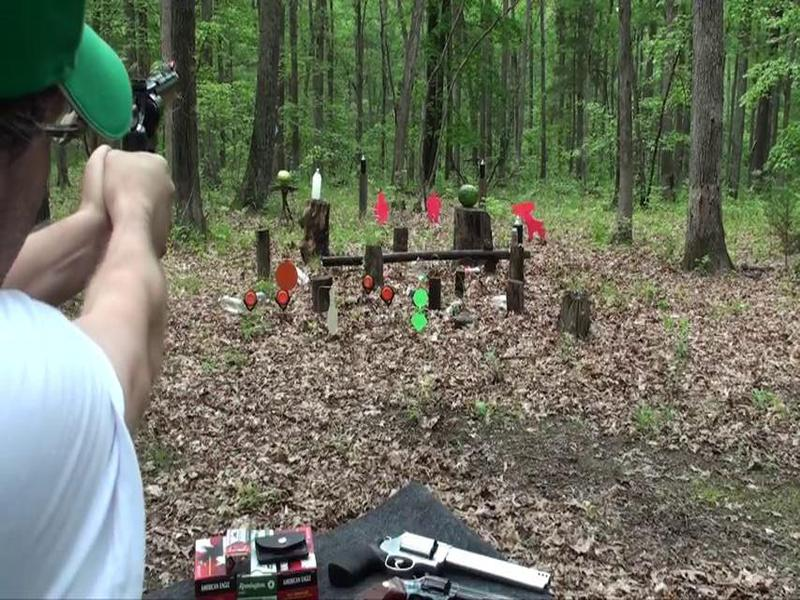Revolver: (103, 43, 181, 195)
